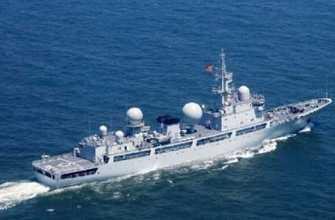warship: (26, 49, 331, 186)
